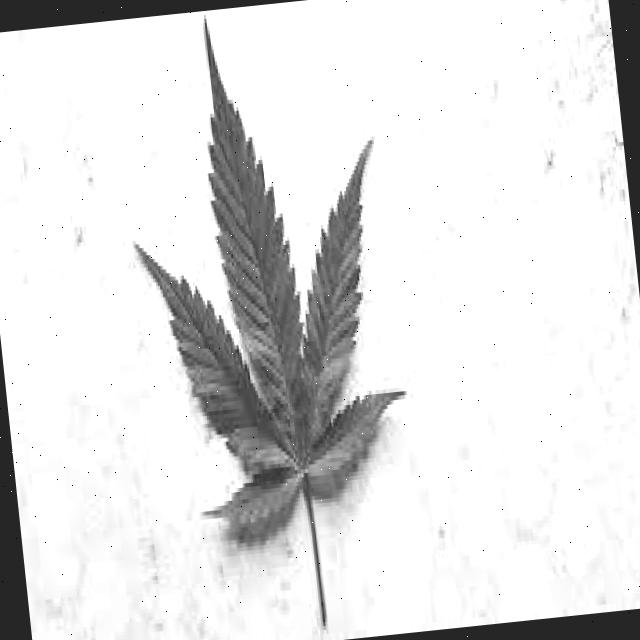cannabis: (132, 15, 410, 632)
